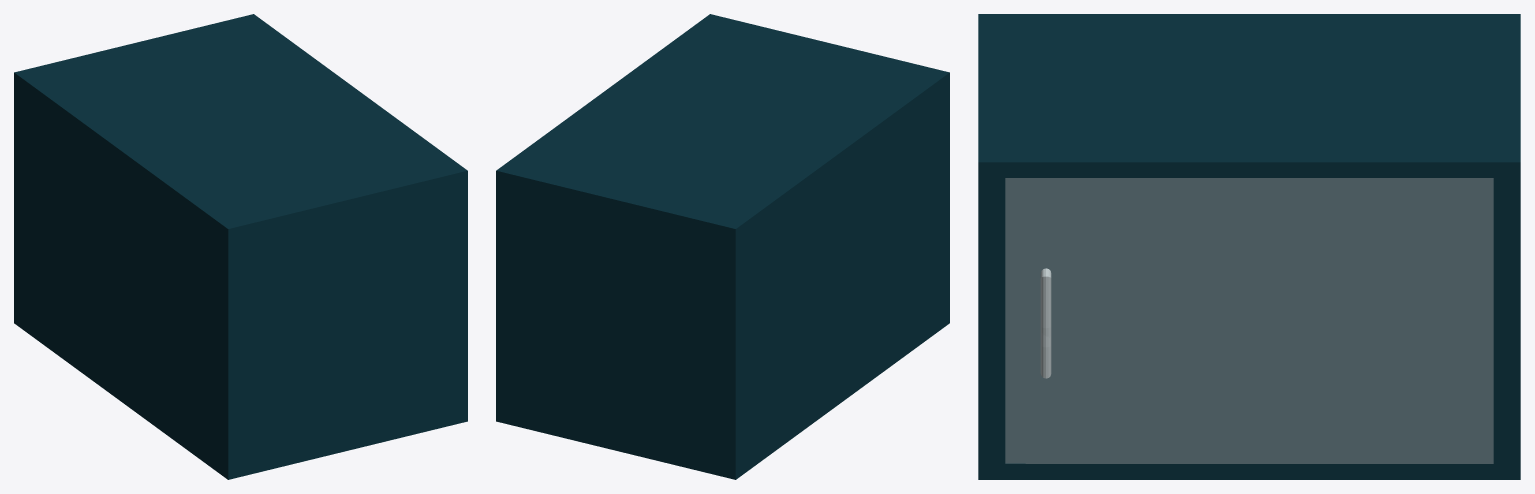
The model's file is Safe 1.fbx.
3 views of the same model, side by side, from view 1: azimuth 30°, elevation 25°; view 2: azimuth 150°, elevation 25°; view 3: azimuth 270°, elevation 25° (orthographic). The views are drawn at different scales.
Visible parts, largest first — view 1: locker body; view 2: locker body; view 3: locker face, locker body, Vert.
Boxes of the visible parts, left/top/right/bottom form: locker body: left=14, top=14, right=467, bottom=479; locker body: left=496, top=14, right=949, bottom=479; locker face: left=1005, top=178, right=1493, bottom=463; locker body: left=978, top=14, right=1520, bottom=479; Vert: left=1040, top=268, right=1051, bottom=378.
Bounding box in the file's own units: 210 × 200 × 309.
